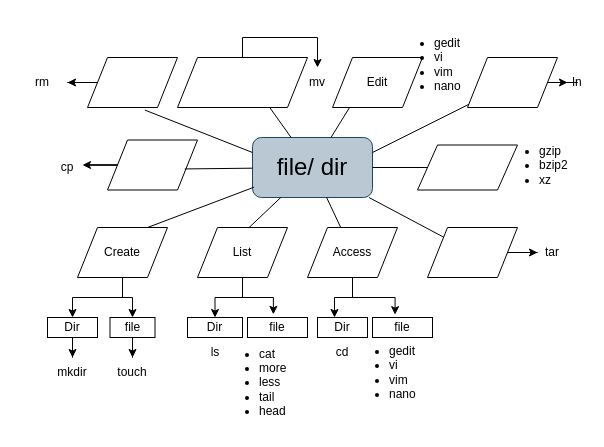
Image size: 604x447. Some labels were removed from this diagram. The shapes that lost their labels are listed below. From the top down, each one's centre as x and y in pixels, then its label:
At (132,82): "Remove".
At (242,82): "Cut/Move/Rename".
At (512,82): "Link".
At (152,164): "Copy".
At (467,167): "Compress".
At (472,252): "Archive".
